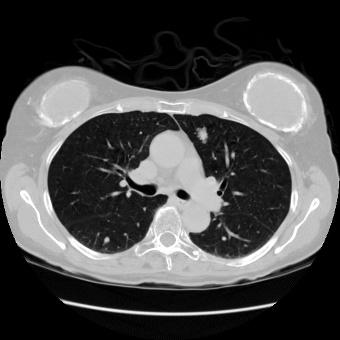PN: (102, 236, 110, 244)
